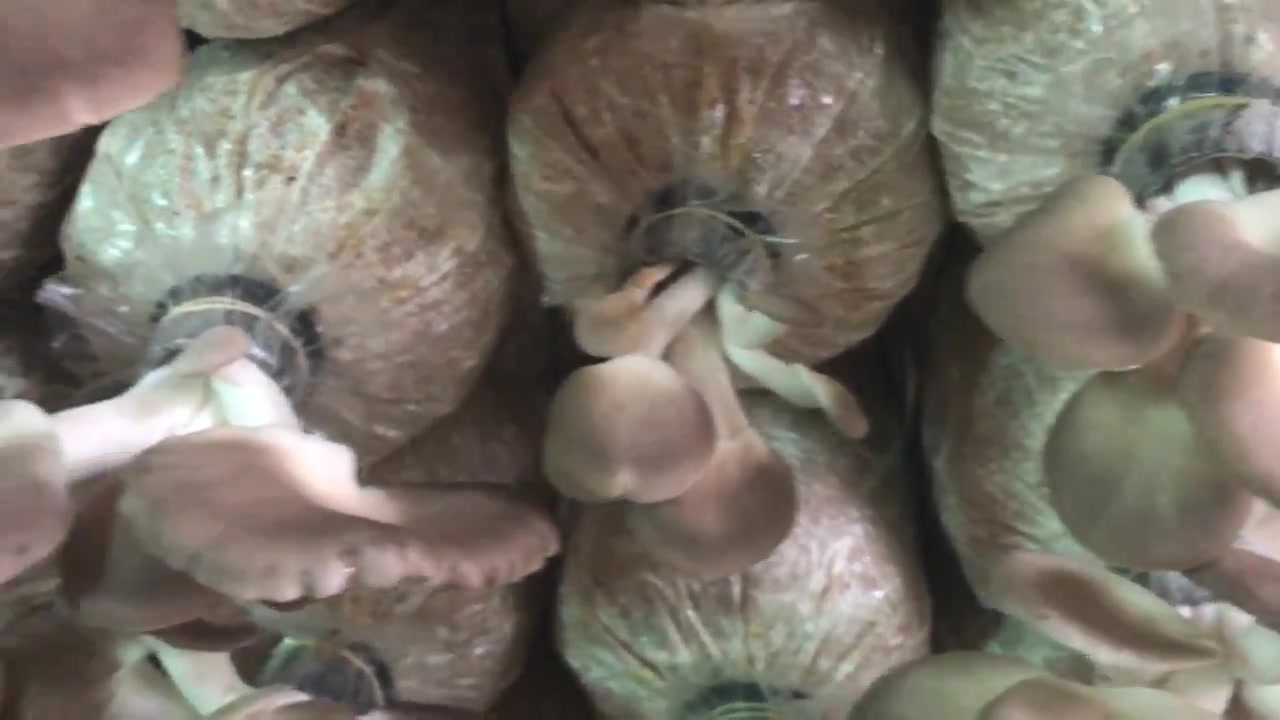nam: (1, 295, 564, 605), (966, 74, 1280, 570), (543, 182, 870, 582)
